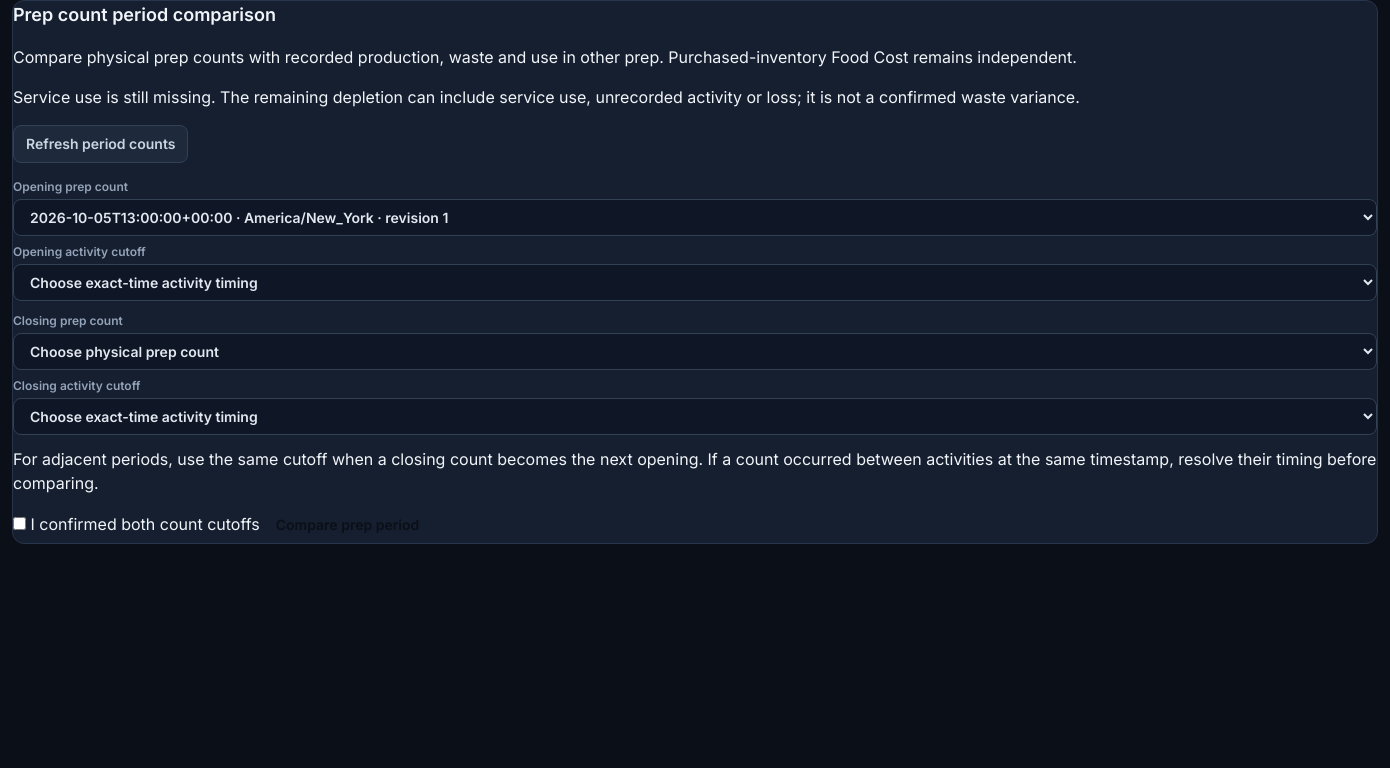
Test case: foreign location response and failed setup remain visible failures
The width and height of the screenshot is (1390, 768).
Select "2026-10-05T13:00:00+00:00 · America/New_York · revision 1" in the dropdown named "Opening prep count" at (695, 218), box [13, 199, 1377, 236]
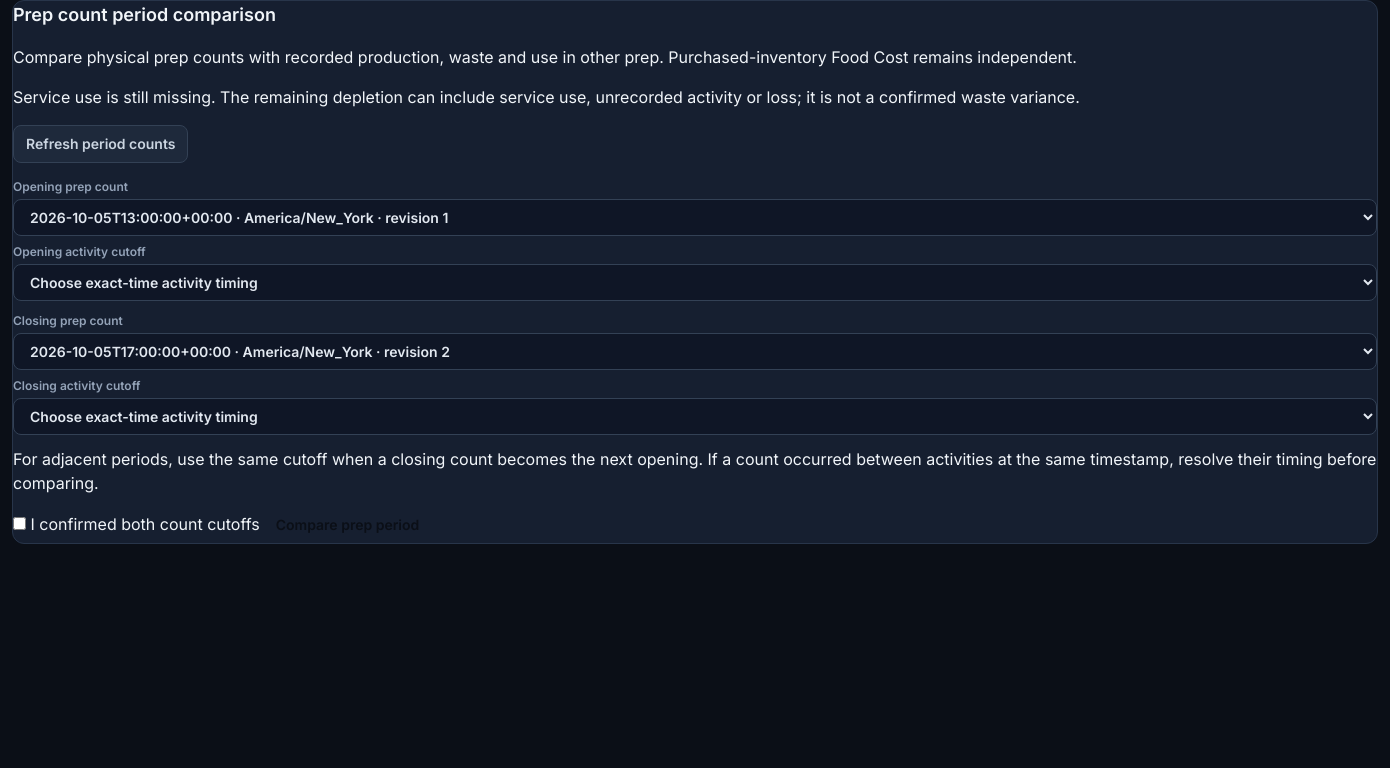
Select "2026-10-05T17:00:00+00:00 · America/New_York · revision 2" in the dropdown labelled "Closing prep count" at (695, 352), box [13, 333, 1377, 370]
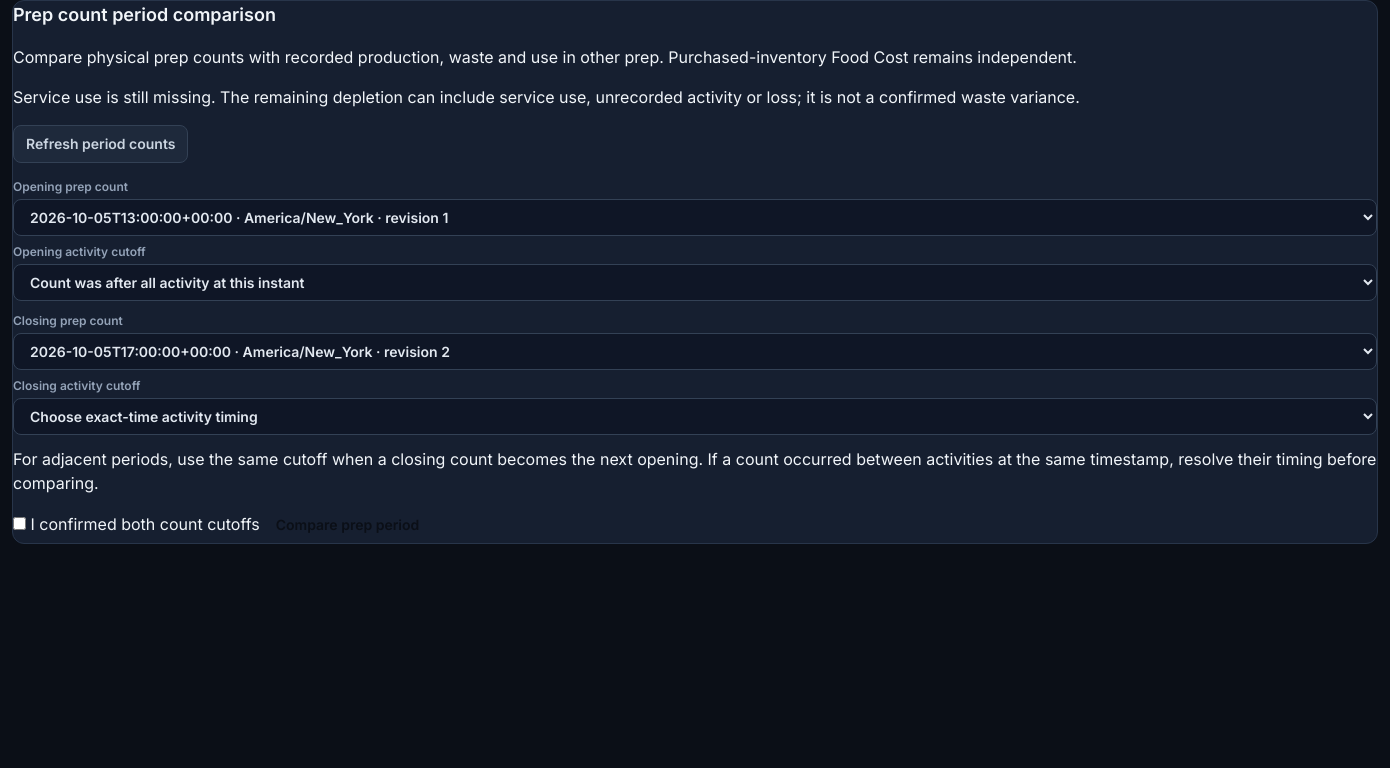
Select "Count was after all activity at this instant" in the dropdown named "Opening activity cutoff" at (695, 282), box [13, 264, 1377, 301]
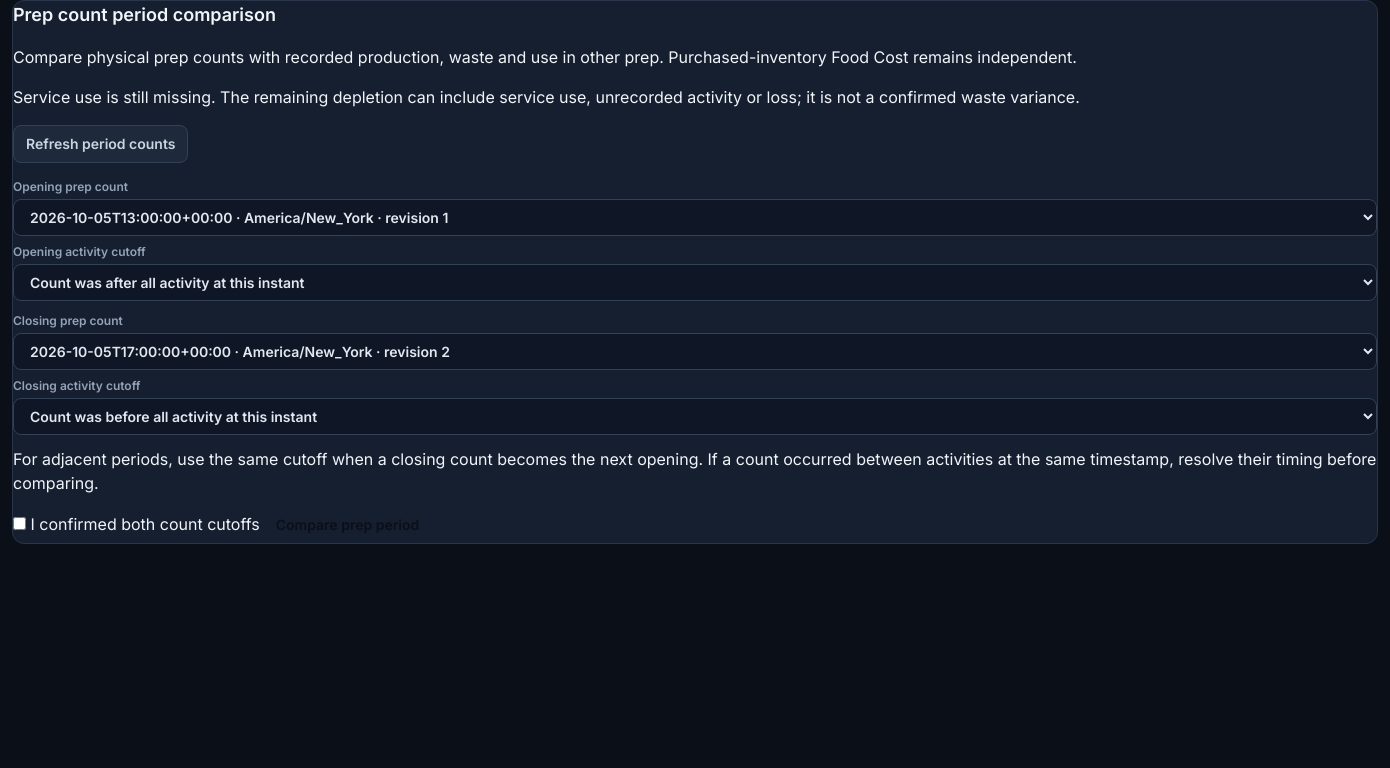
Select "Count was before all activity at this instant" in the dropdown labelled "Closing activity cutoff" at (695, 416), box [13, 398, 1377, 435]
Click the checkbox named "Confirm prep period cutoffs".
click(20, 524)  # box [13, 517, 26, 530]
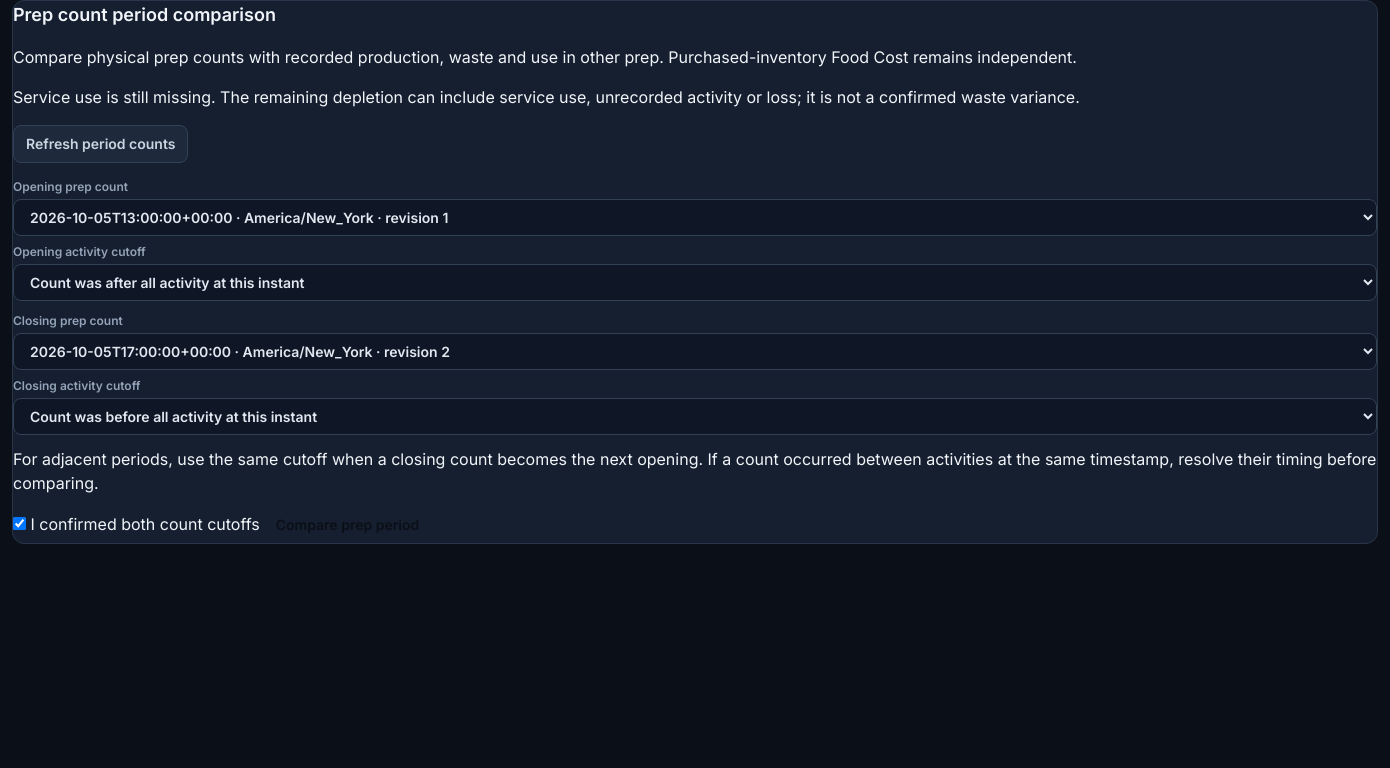
Click the button "Compare prep period".
click(348, 525)  # box [260, 507, 435, 543]
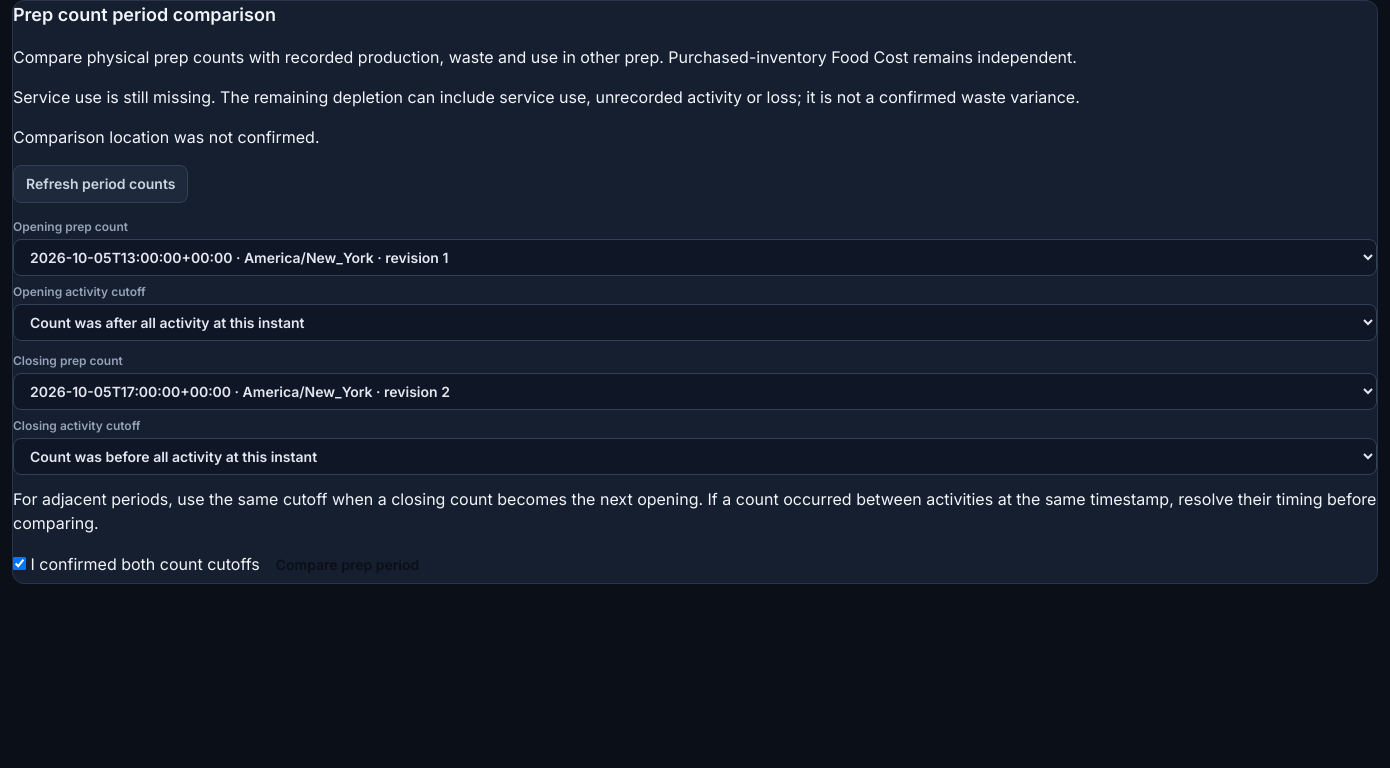
expect the text "location was not confirmed" is shown: met, box [13, 127, 320, 147]
Click the button "Refresh period counts".
click(101, 184)  # box [13, 165, 188, 203]
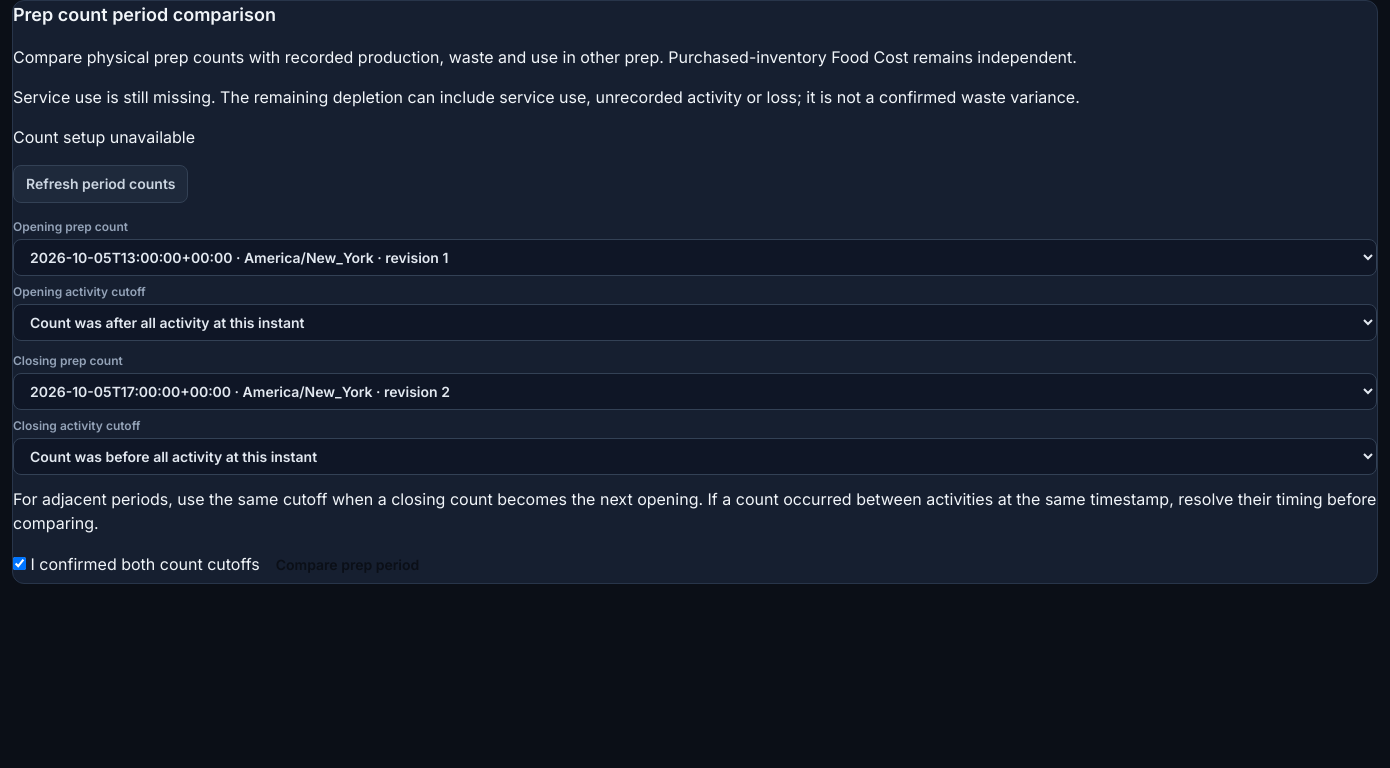
expect the text "Count setup unavailable" is shown: met, box [13, 127, 195, 147]
